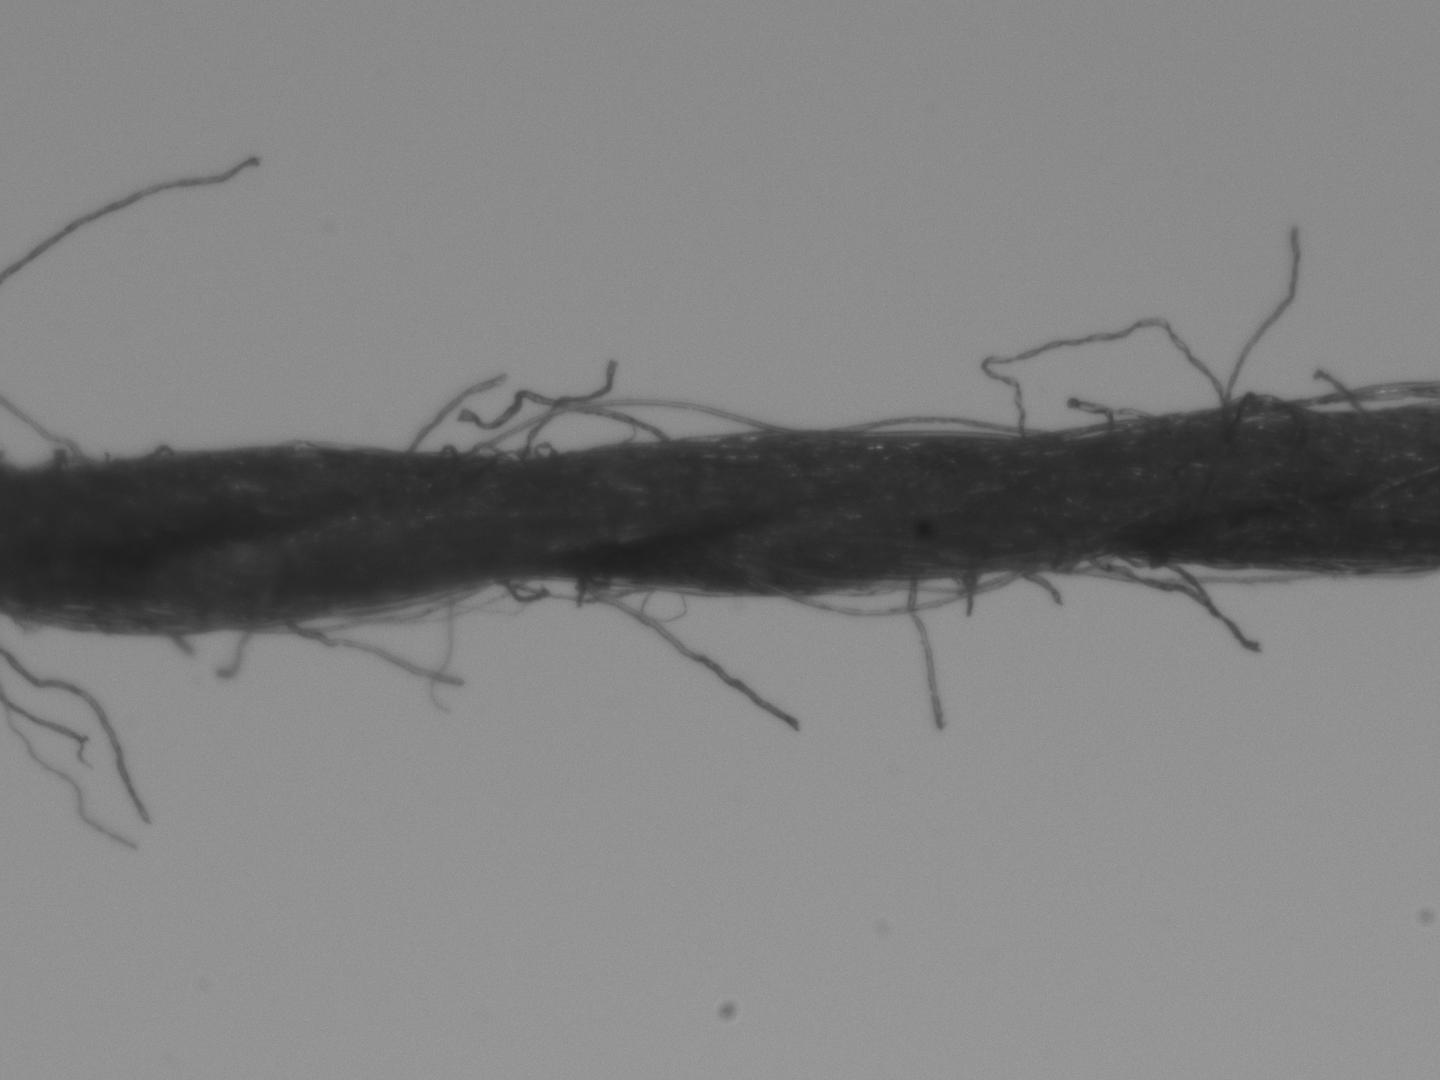loop_fiber: (984, 313, 1225, 440), (465, 393, 785, 462), (253, 577, 480, 634), (782, 566, 1024, 618), (905, 579, 950, 736), (499, 572, 653, 608), (850, 412, 1039, 433), (1233, 389, 1308, 429), (143, 442, 176, 463)
protruding_fiber: (577, 582, 799, 739), (1221, 225, 1305, 406), (400, 372, 510, 454)
